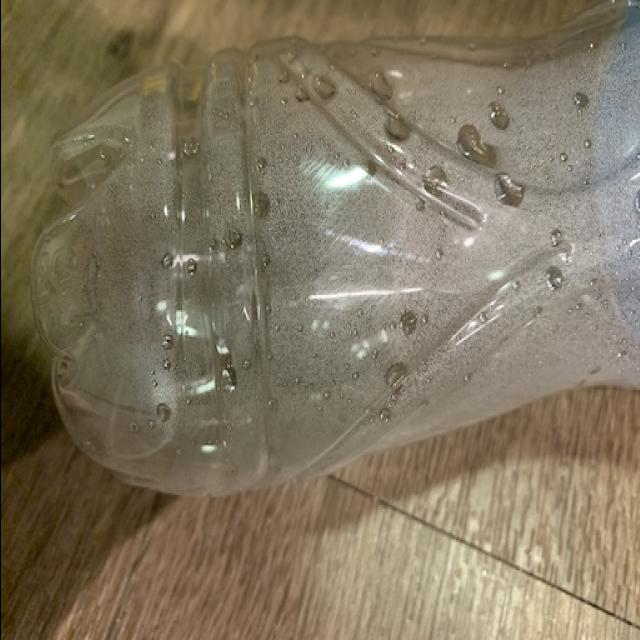litter: (25, 0, 640, 503)
